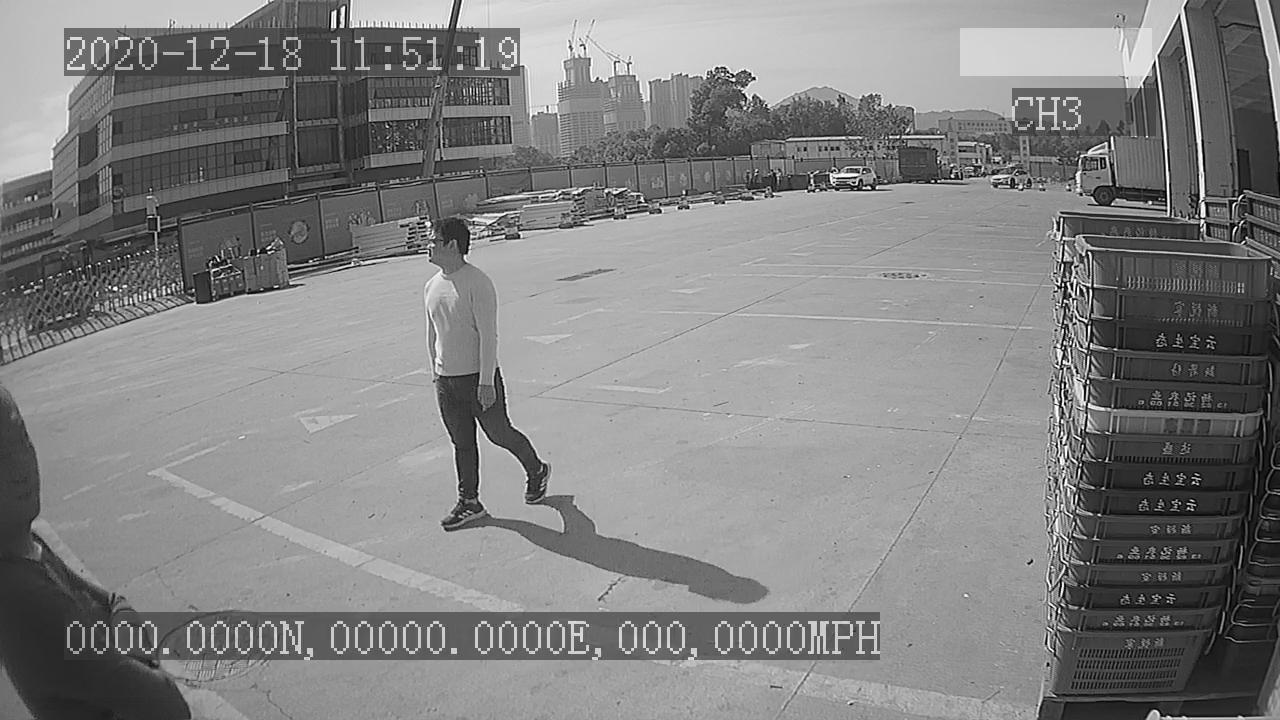person: (415, 213, 556, 535)
